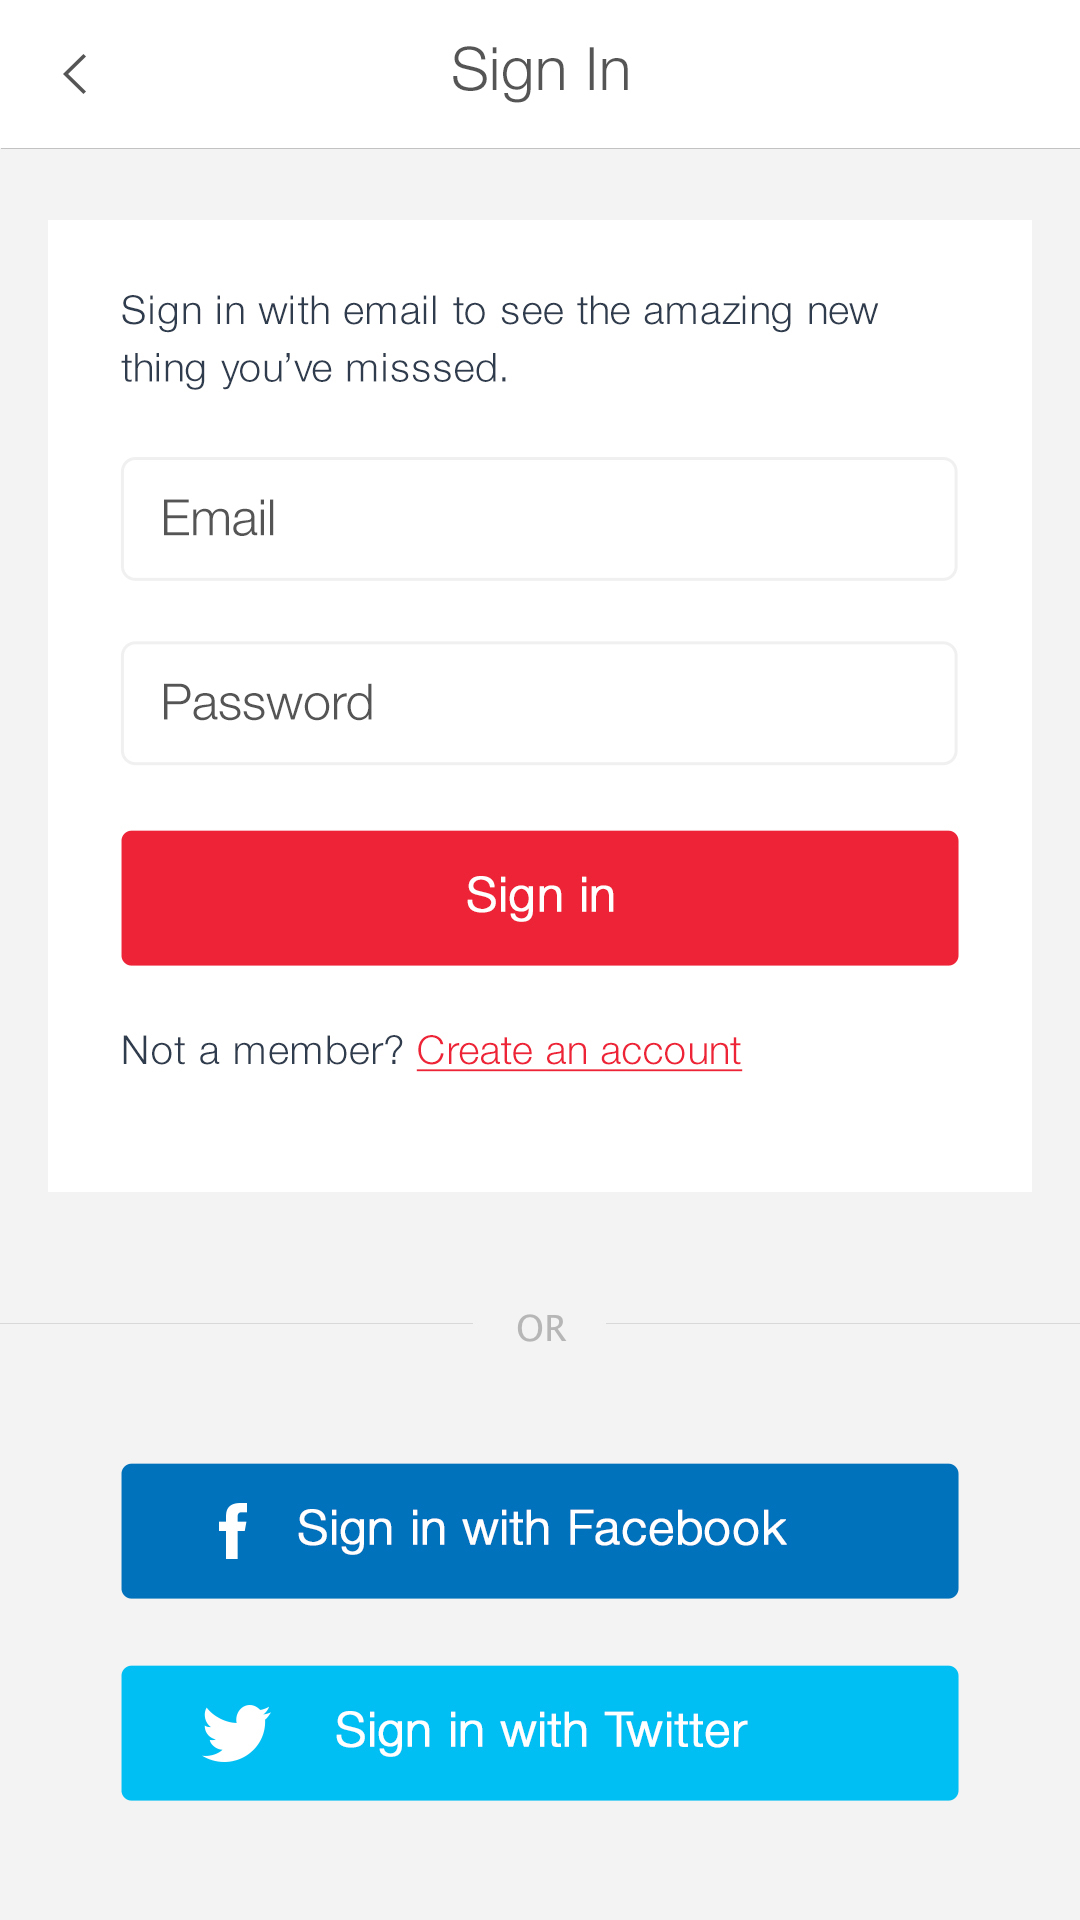EditText: (123, 641, 957, 766), (121, 458, 957, 582)
Icon: (63, 54, 88, 96)
Text: (121, 295, 880, 392), (123, 1034, 742, 1073), (454, 46, 629, 104), (164, 683, 373, 723), (164, 498, 276, 537), (518, 1313, 567, 1342)
TextButton: (123, 829, 960, 967), (121, 1462, 959, 1600), (121, 1665, 959, 1803)
Toolbar: (1, 1, 1080, 150)
